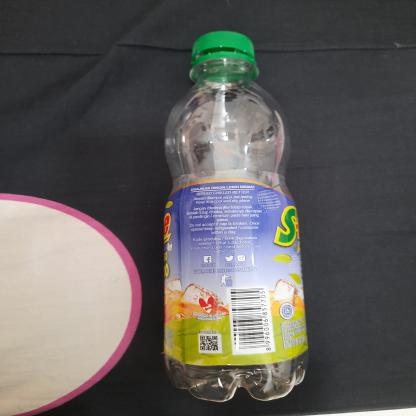bottle: (156, 25, 310, 408)
